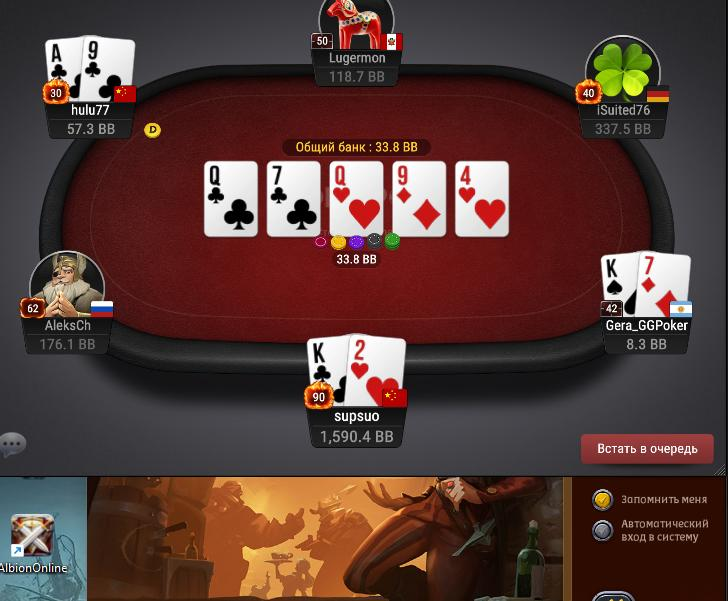2h: (347, 333, 407, 408)
4h: (456, 163, 508, 236)
7c: (268, 161, 320, 238)
7d: (637, 250, 692, 318)
9c: (82, 33, 134, 103)
9d: (392, 162, 445, 238)
Ac: (44, 37, 82, 102)
Kc: (307, 335, 348, 407)
Ks: (601, 252, 638, 318)
Qc: (204, 160, 257, 236)
Qh: (330, 160, 384, 234)
